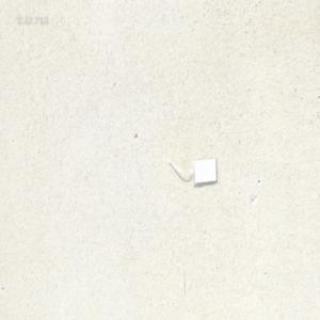LuggageTagtrack_idkeyframe: (165, 156, 217, 184)
